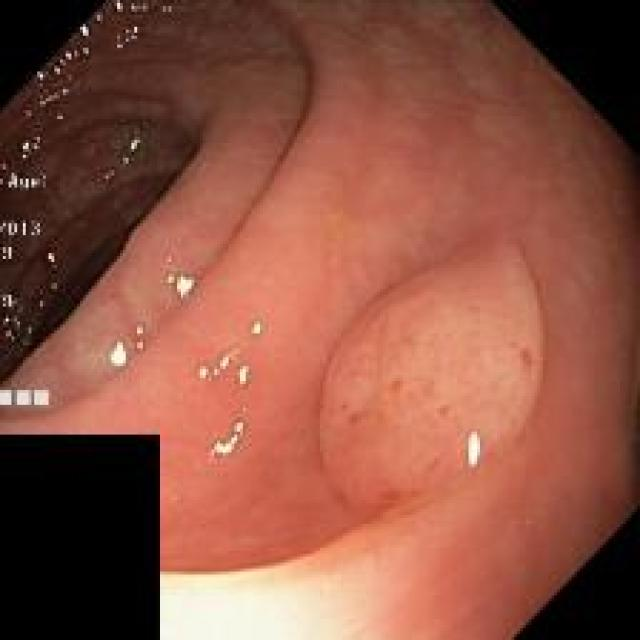Polyps: (319, 244, 545, 507)
